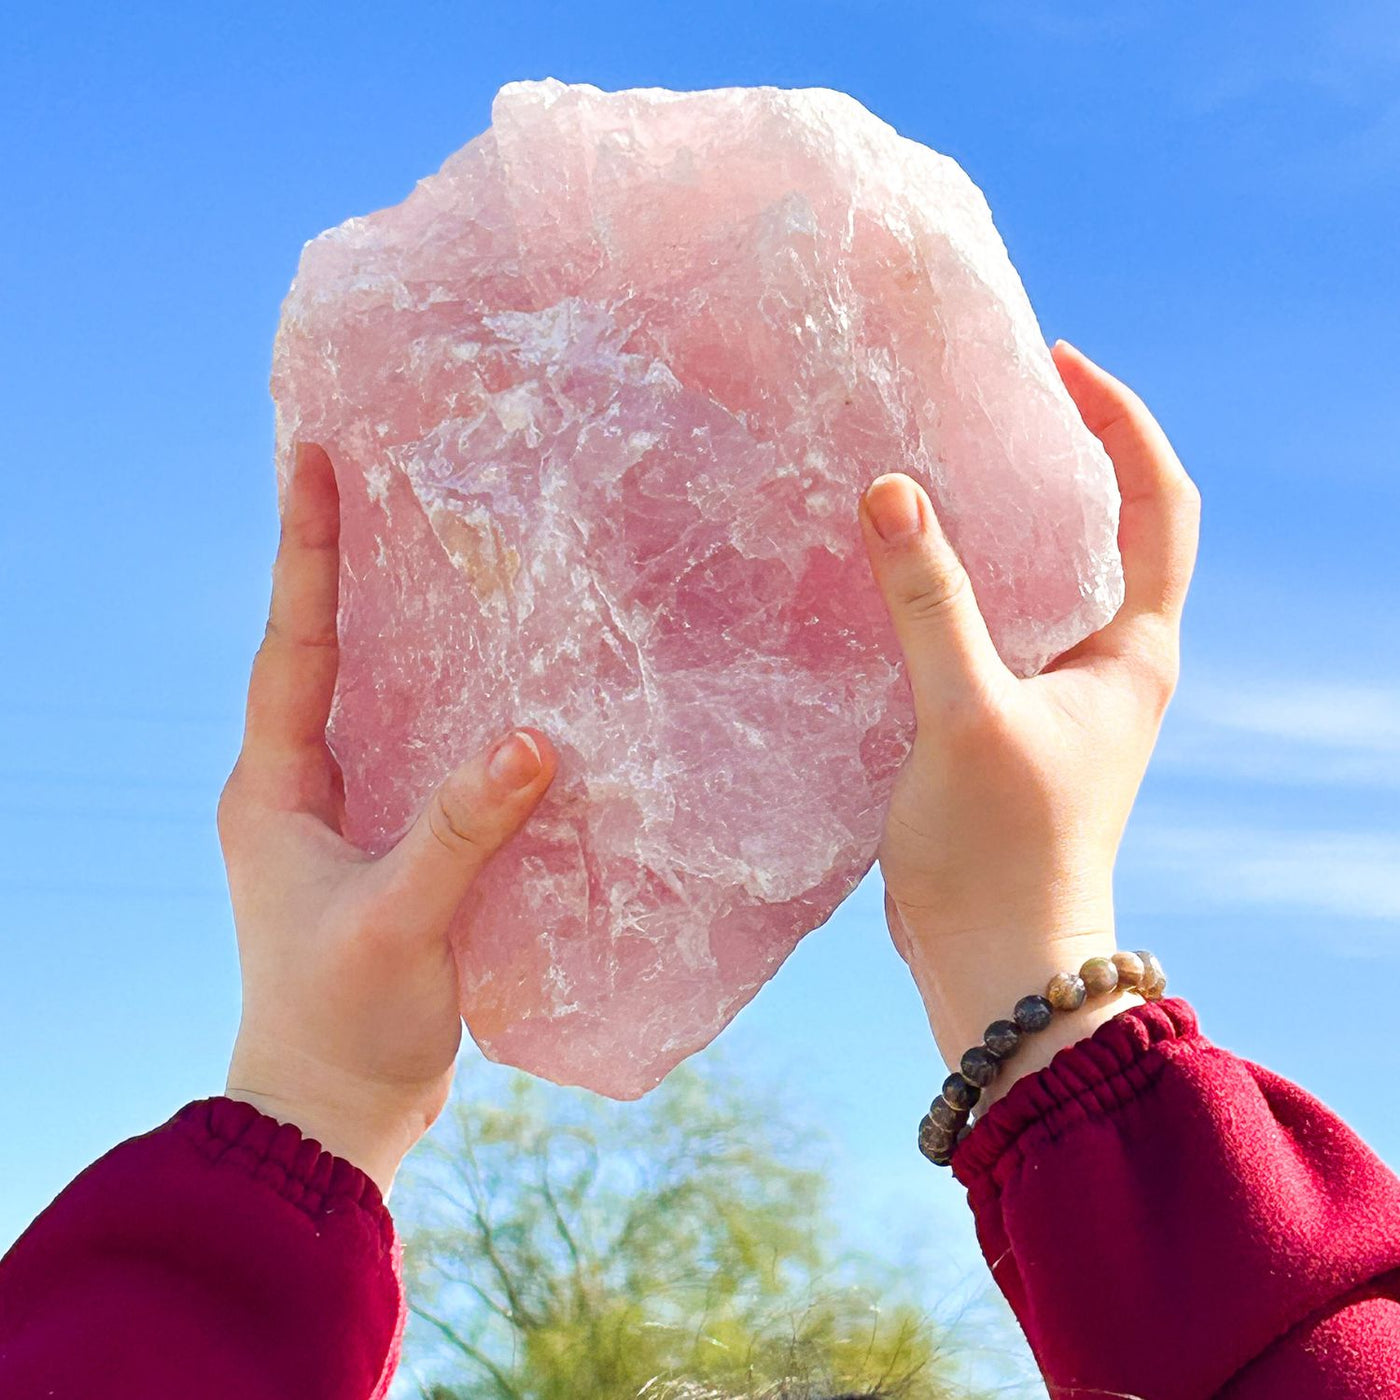Rose_Quartz: (263, 74, 1122, 1108)
